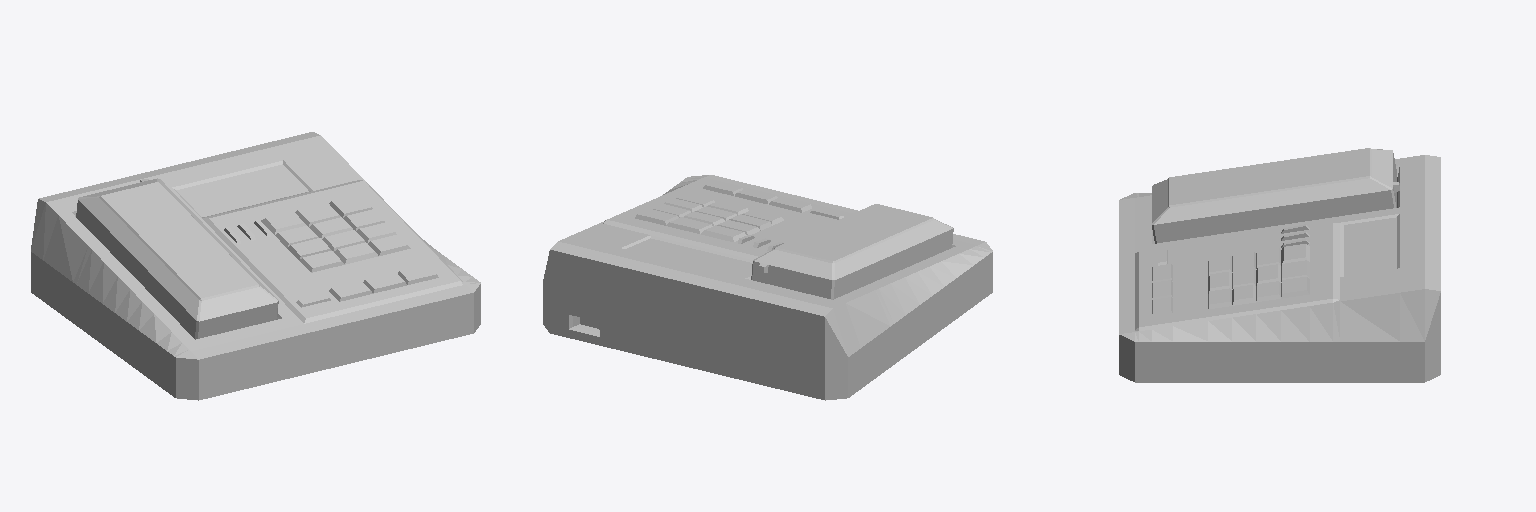
The model's file is Low_Poly_Telephone.obj.
3 renders of one model, left to right at view 1: azimuth 30°, elevation 25°; view 2: azimuth 150°, elevation 25°; view 3: azimuth 270°, elevation 25°, orthographic.
Parts seen in each view (by area): view 1: Telephone_Base, Telephone_Phone; view 2: Telephone_Base, Telephone_Phone; view 3: Telephone_Base, Telephone_Phone.
Part boxes in pixels (left/top/right/bottom): Telephone_Base: left=31, top=132, right=480, bottom=400; Telephone_Phone: left=76, top=178, right=278, bottom=339; Telephone_Base: left=543, top=175, right=992, bottom=400; Telephone_Phone: left=751, top=204, right=953, bottom=299; Telephone_Base: left=1119, top=155, right=1440, bottom=382; Telephone_Phone: left=1152, top=148, right=1399, bottom=243.
Bounding box in the file's own units: 4.58 × 1.55 × 4.18.